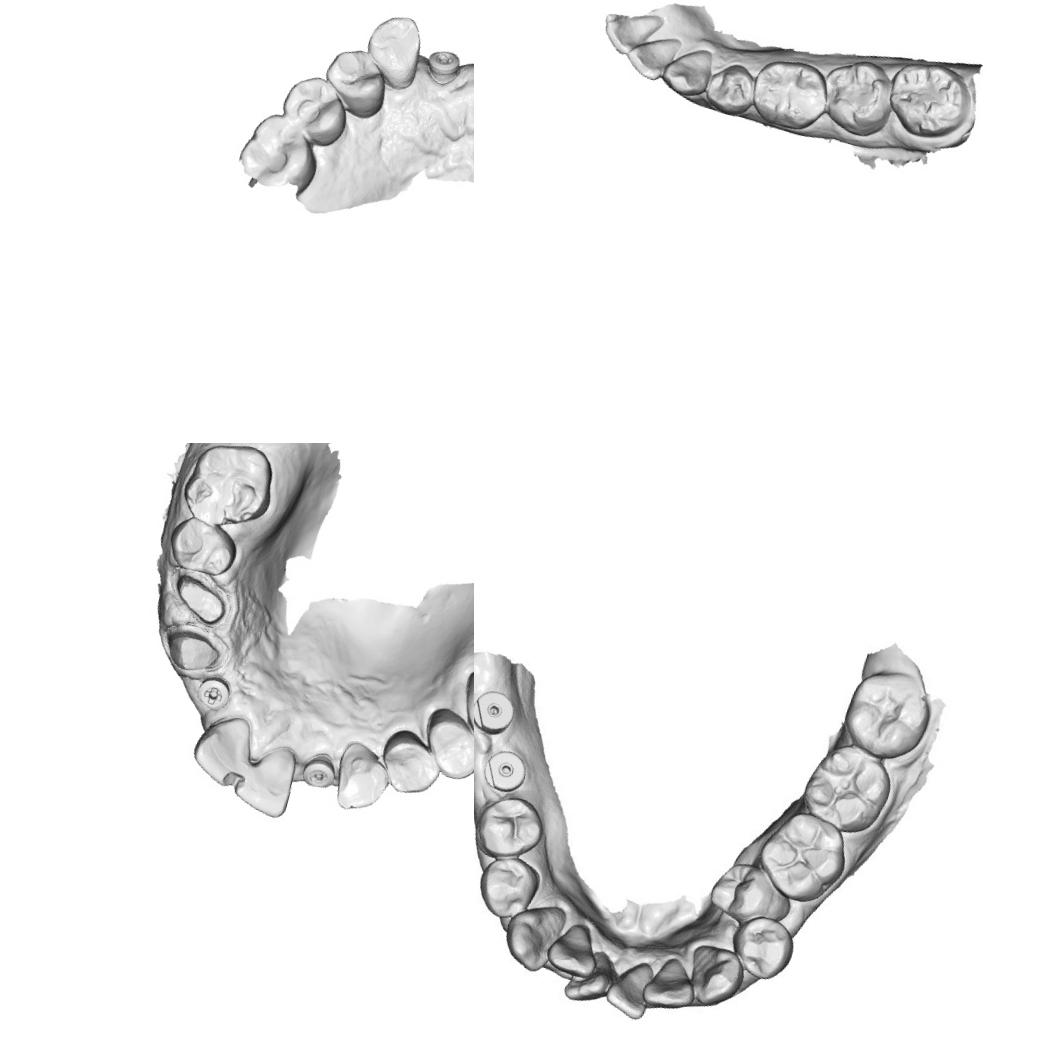canine: (356, 7, 430, 92), (498, 896, 566, 975), (330, 740, 396, 819), (681, 940, 749, 1012), (657, 39, 716, 101)
crown: (164, 568, 235, 630), (160, 622, 225, 679)
implant: (476, 742, 533, 798), (474, 681, 519, 738), (420, 40, 465, 86)
implant_minus: (296, 748, 340, 794)
implant_plus: (193, 671, 236, 714)
incisor: (184, 704, 261, 792), (227, 737, 303, 823), (638, 949, 704, 1016), (598, 952, 659, 1022), (540, 916, 604, 982), (597, 1, 664, 63), (561, 946, 620, 1010), (620, 26, 682, 86)
molar: (748, 802, 856, 910), (834, 661, 938, 766), (173, 443, 286, 539), (798, 736, 900, 841), (880, 52, 978, 148), (232, 106, 328, 198), (812, 51, 902, 142), (447, 651, 474, 772)
premolar: (743, 49, 834, 136), (704, 854, 797, 934), (314, 40, 396, 124), (274, 68, 355, 150), (159, 509, 245, 582), (372, 721, 448, 803), (720, 910, 799, 985), (474, 788, 549, 865), (411, 700, 474, 787), (474, 849, 542, 924), (698, 57, 762, 121)
